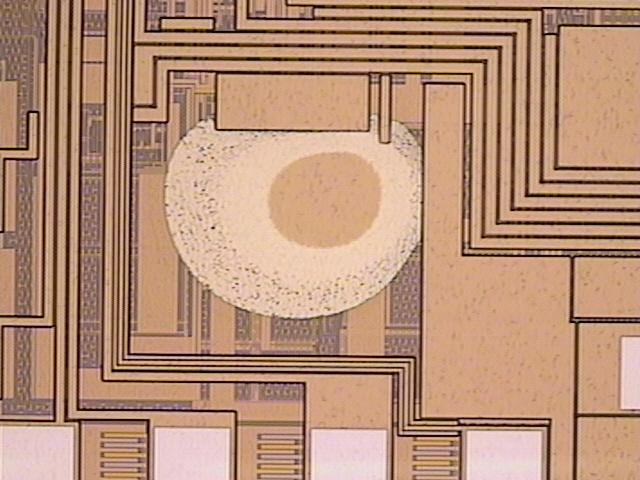BLOCK ETCH: (155, 84, 441, 328)
